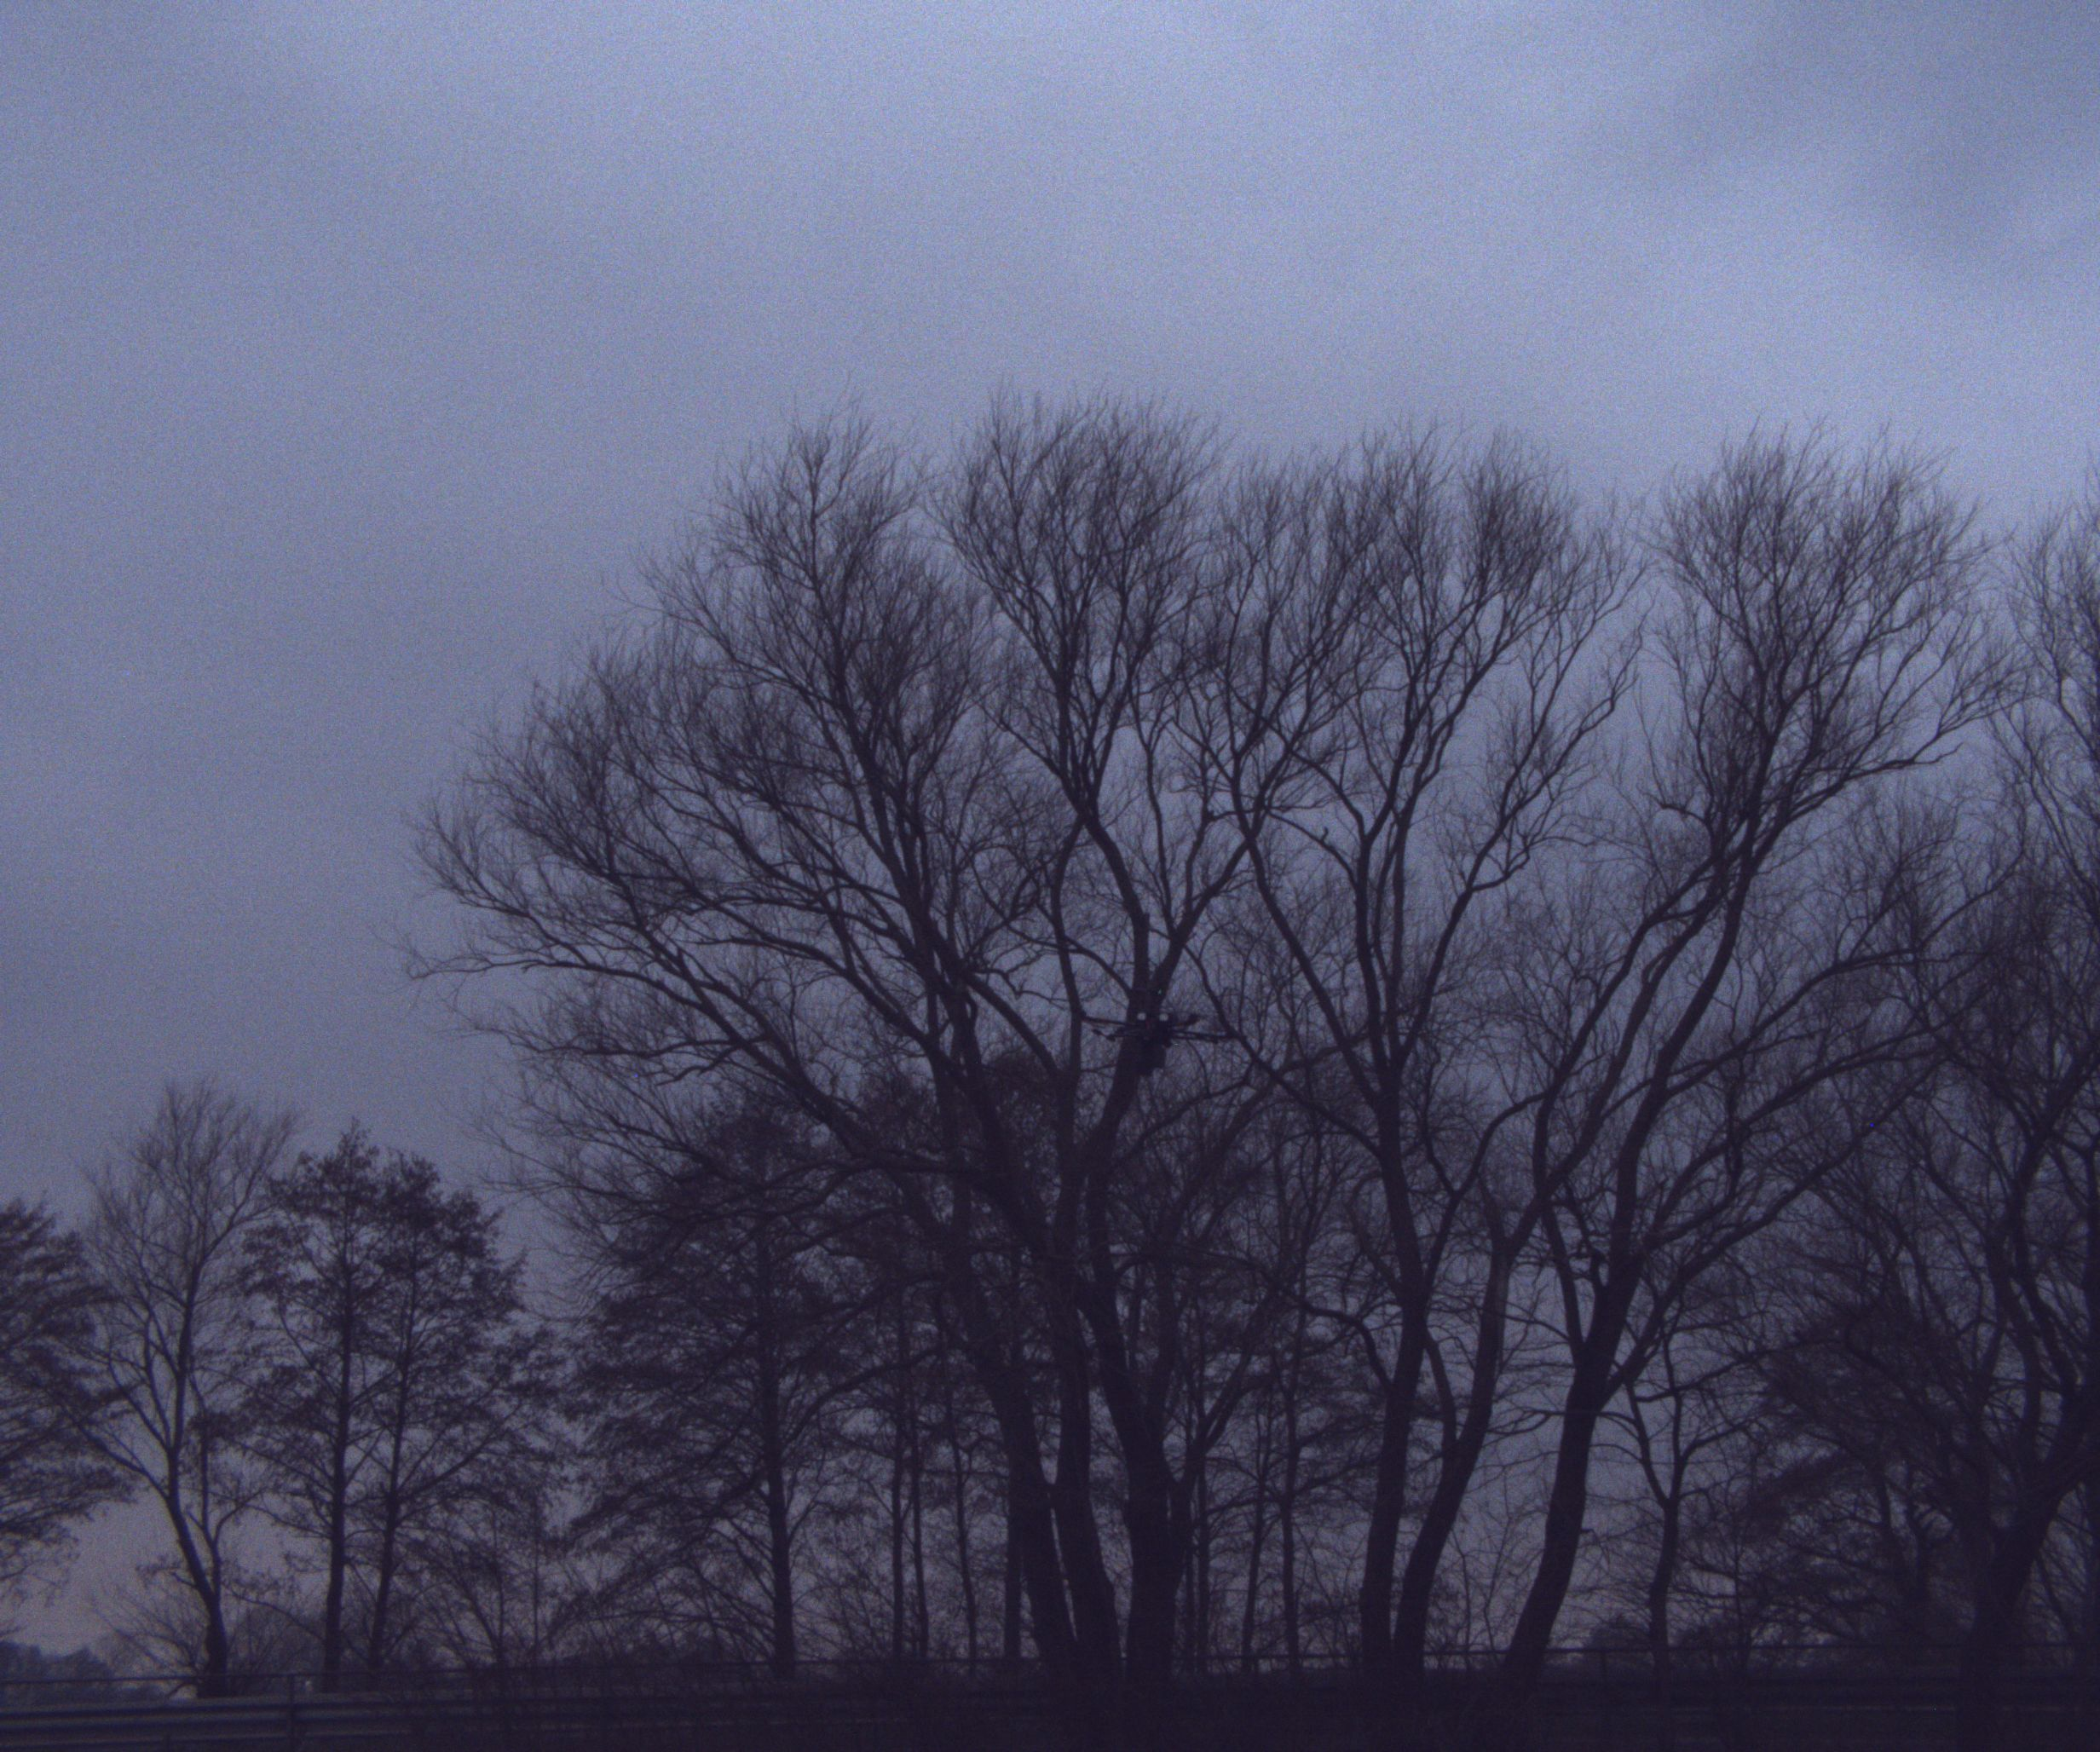Drohne: (1026, 943, 1341, 1100)
